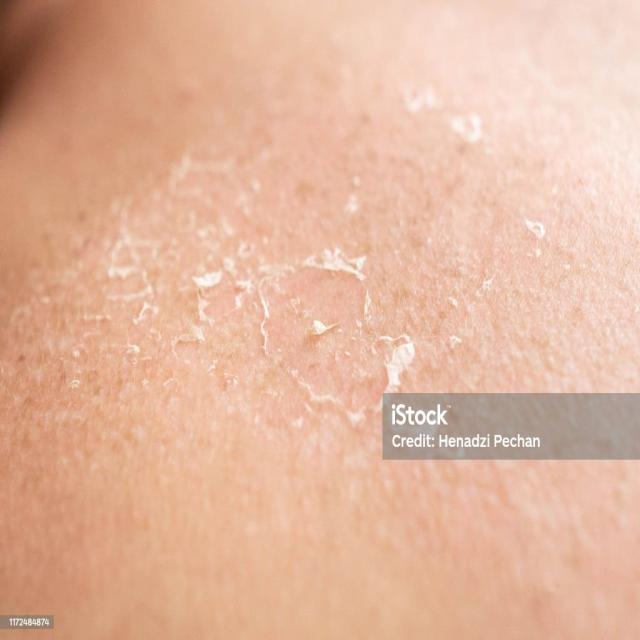Dry-Skin: (210, 112, 412, 460), (482, 110, 628, 413), (48, 180, 178, 432)
